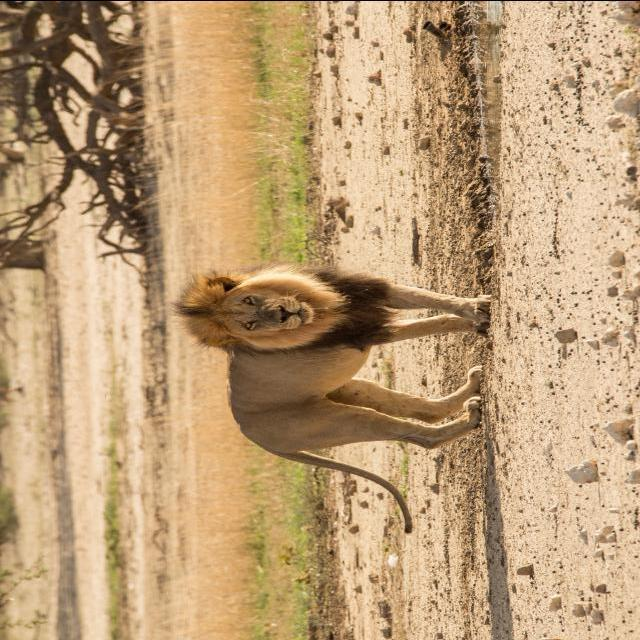lions: (108, 243, 640, 597)
